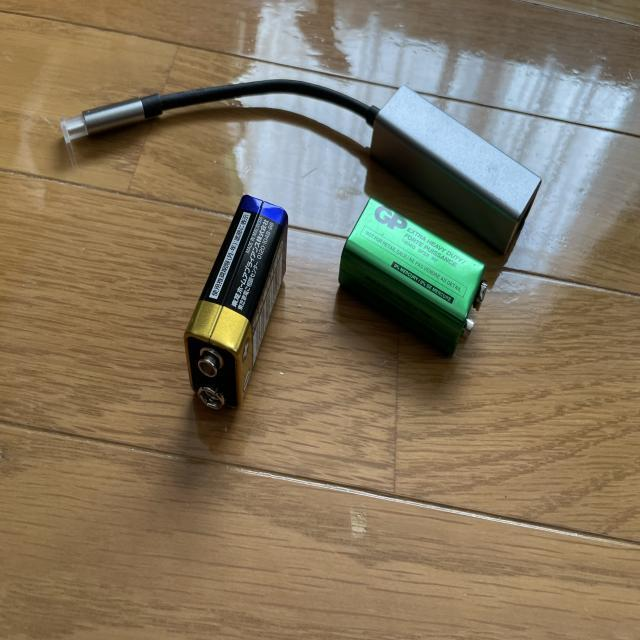9V: (175, 185, 298, 419), (333, 193, 492, 363)
